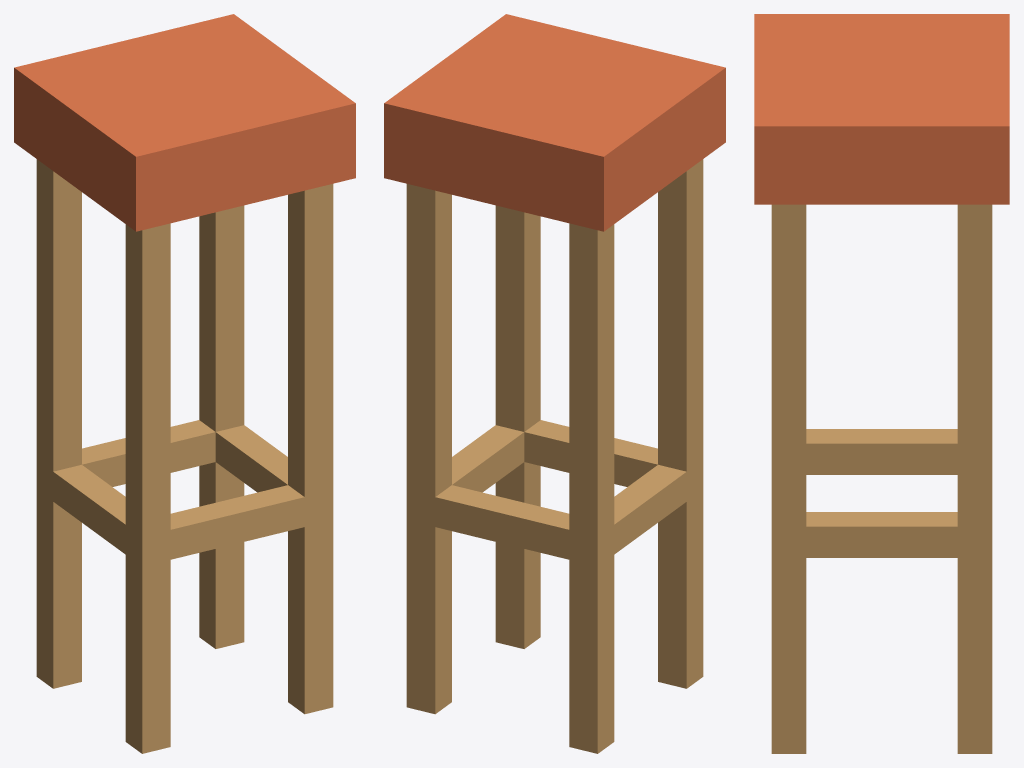
The model's file is stoolBarSquare.glb.
3 renders of one model, left to right at view 1: azimuth 30°, elevation 25°; view 2: azimuth 150°, elevation 25°; view 3: azimuth 270°, elevation 25°, orthographic. The views are drawn at different scales.
Size of the model in its own units: 1.54 by 4.05 by 1.48.
